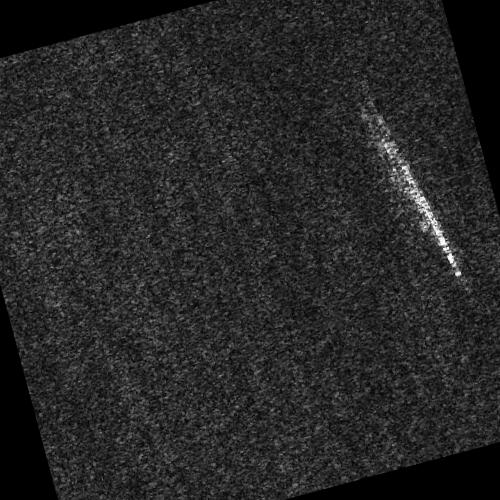ship: (399, 160, 463, 279)
